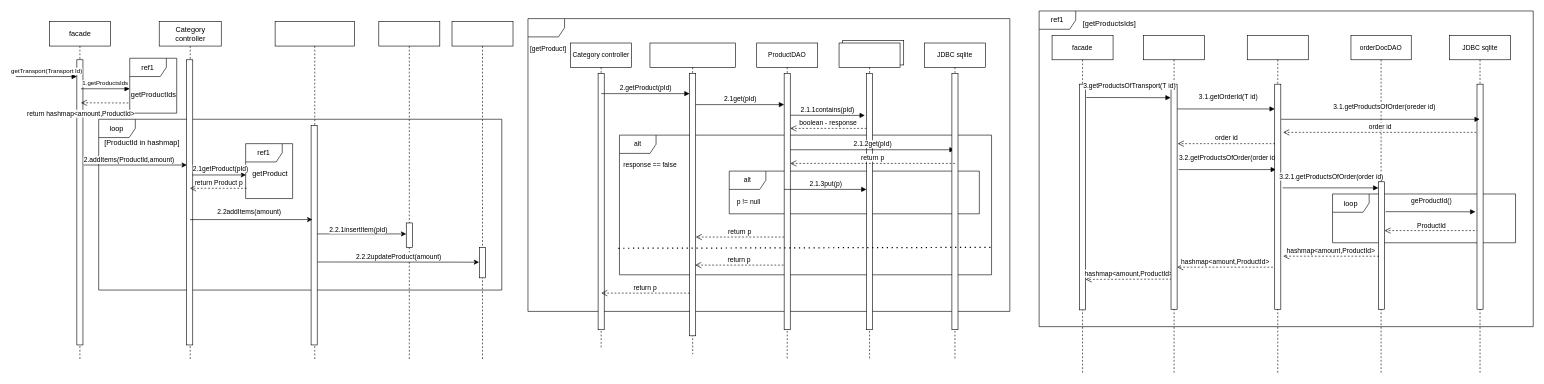
Some shapes in this 1544 by 384 pixel diagram are drawn without their labels. The shapes that lost their labels are listed below. From the top down, each one's box as (x1, y1, x2, y2) in pixels, then its label:
(527, 18, 1010, 311): ref2
(274, 21, 354, 360): Product
(378, 21, 440, 360): ItemDAO
(451, 21, 513, 360): CategoriesDAO
(649, 42, 735, 354): CategoryToProductDAO
(838, 42, 900, 360): IMProducts
(1143, 35, 1205, 374): orderController
(1247, 35, 1308, 374): orderDAO
